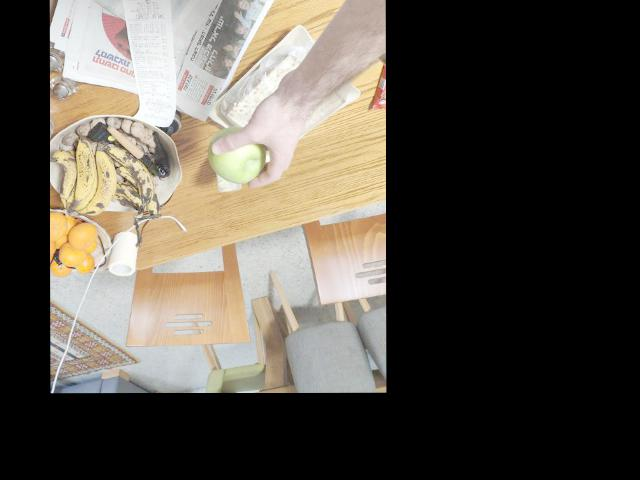apple: (209, 106, 277, 185)
